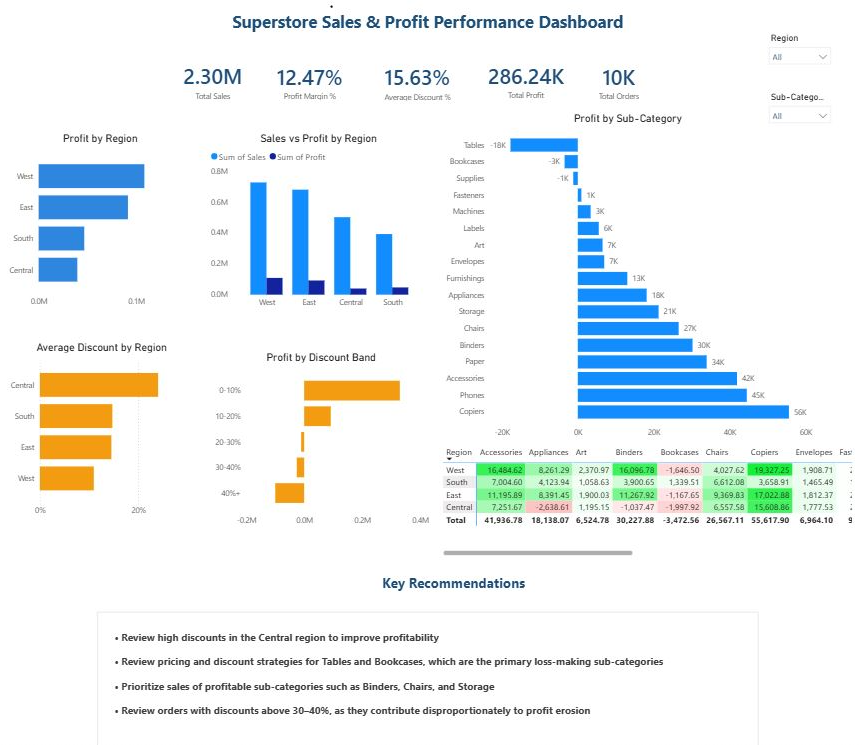

What the dashboard file says about the page in this screenshot:
{"tool":"powerbi","page":{"name":"Page 1","canvas":[1400,1200],"ordinal":0},"visuals":[{"type":"cardVisual","fields":{"Data":["Superstore_dataset.Total Profit"]},"box":[755.8,83.5,203,98],"z":0,"group":"g1"},{"type":"shape","box":[172,982,1034,218],"z":0},{"type":"group","id":"g1","title":"Group 1","box":[272.7,83.5,810.8,98.3],"z":1000},{"type":"cardVisual","fields":{"Data":["Superstore_dataset.Total Sales"]},"box":[272.7,86.1,169.2,94],"z":1000,"group":"g1"},{"type":"slicer","fields":{"Values":["Superstore_dataset.Region"]},"box":[1235.3,49.3,119.4,68.4],"z":2000},{"type":"cardVisual","fields":{"Data":["Superstore_dataset.Total Orders"]},"box":[927.9,87.2,156.9,93],"z":2000,"group":"g1"},{"type":"cardVisual","fields":{"Data":["Superstore_dataset.Profit Margin %"]},"box":[423.2,88.2,179.7,93],"z":3000,"group":"g1"},{"type":"group","id":"g2","title":"Group 2","box":[22.3,181.8,1361.8,716.1],"z":3000},{"type":"cardVisual","fields":{"Data":["Superstore_dataset.Average Order Value"]},"box":[602.6,87.3,175.2,93.2],"z":4000,"group":"g1"},{"type":"slicer","fields":{"Values":["Superstore_dataset.Sub-Category"]},"box":[1235.3,144.9,119.4,68.4],"z":4000},{"type":"textbox","box":[371.1,14.8,656.8,68.6],"z":5000},{"type":"clusteredBarChart","title":"Profit by Region","fields":{"Category":["Superstore_dataset.Region"],"Y":["Sum(Superstore_dataset.Profit)"]},"box":[22.3,214.1,309.2,290.6],"z":5000,"group":"g2"},{"type":"clusteredColumnChart","title":"Sales vs Profit by Region","fields":{"Category":["Superstore_dataset.Region"],"Y":["Sum(Superstore_dataset.Sales)","Sum(Superstore_dataset.Profit)"]},"box":[347.9,214.5,355.5,290.6],"z":6000,"group":"g2"},{"type":"textbox","box":[424,898,628,84],"z":6000},{"type":"clusteredBarChart","title":"Average Discount by Region","fields":{"Y":["Superstore_dataset.Average Discount %"],"Category":["Superstore_dataset.Region"]},"box":[23.7,547.3,309.2,290.6],"z":7000,"group":"g2"},{"type":"textbox","box":[194,1006,996,170],"z":7000},{"type":"clusteredBarChart","title":"Profit by Discount Band","fields":{"Category":["Superstore_dataset.Discount Band"],"Y":["Sum(Superstore_dataset.Profit)"]},"box":[351.9,562.9,355.5,290.6],"z":9000,"group":"g2"},{"type":"clusteredBarChart","title":"Profit by Sub-Category","fields":{"Category":["Superstore_dataset.Sub-Category"],"Y":["Sum(Superstore_dataset.Profit)"]},"box":[720.2,181.8,601.5,531],"z":10000,"group":"g2"},{"type":"pivotTable","fields":{"Rows":["Superstore_dataset.Region"],"Columns":["Superstore_dataset.Sub-Category"],"Values":["Sum(Superstore_dataset.Profit)"]},"box":[719.9,710.5,664.2,187.5],"z":11000,"group":"g2"}]}

Visuals, with their boxes in screenshot pixels (x1, y1, x2, y2), scaled from the page's 1400x1200 canvas onto the 863x745 screenshot:
cardVisual - Superstore_dataset.Total Profit: (x1=466, y1=52, x2=591, y2=113)
shape: (x1=106, y1=610, x2=743, y2=744)
"Group 1" group: (x1=168, y1=52, x2=668, y2=113)
cardVisual - Superstore_dataset.Total Sales: (x1=168, y1=53, x2=272, y2=112)
slicer - Superstore_dataset.Region: (x1=761, y1=31, x2=835, y2=73)
cardVisual - Superstore_dataset.Total Orders: (x1=572, y1=54, x2=669, y2=112)
cardVisual - Superstore_dataset.Profit Margin %: (x1=261, y1=55, x2=372, y2=112)
"Group 2" group: (x1=14, y1=113, x2=853, y2=557)
cardVisual - Superstore_dataset.Average Order Value: (x1=371, y1=54, x2=479, y2=112)
slicer - Superstore_dataset.Sub-Category: (x1=761, y1=90, x2=835, y2=132)
textbox: (x1=229, y1=9, x2=634, y2=52)
"Profit by Region" clusteredBarChart: (x1=14, y1=133, x2=204, y2=313)
"Sales vs Profit by Region" clusteredColumnChart: (x1=214, y1=133, x2=434, y2=314)
textbox: (x1=261, y1=558, x2=648, y2=610)
"Average Discount by Region" clusteredBarChart: (x1=15, y1=340, x2=205, y2=520)
textbox: (x1=120, y1=625, x2=734, y2=730)
"Profit by Discount Band" clusteredBarChart: (x1=217, y1=349, x2=436, y2=530)
"Profit by Sub-Category" clusteredBarChart: (x1=444, y1=113, x2=815, y2=443)
pivotTable - Superstore_dataset.Region x Superstore_dataset.Sub-Category: (x1=444, y1=441, x2=853, y2=558)
